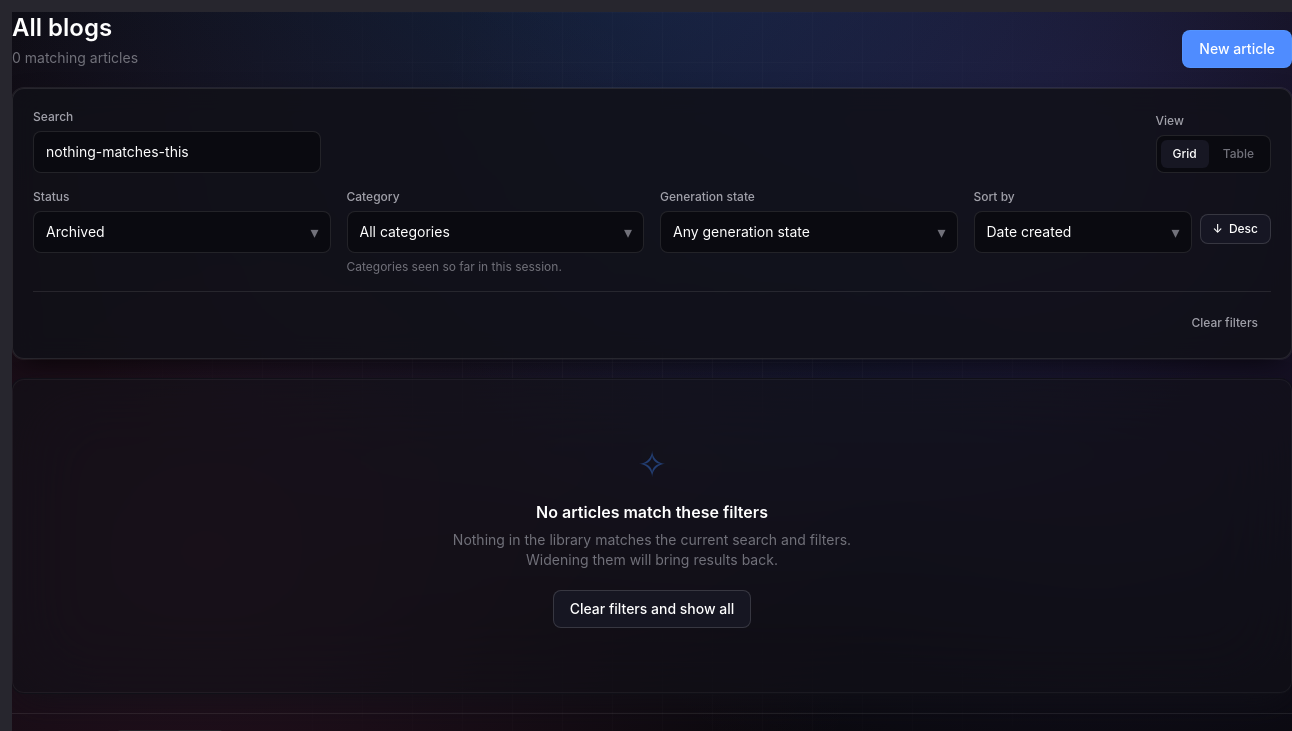
Scenario: empty states › offers a way out of the filters when they exclude everything
The width and height of the screenshot is (1292, 731).
Expected: the heading "No articles match these filters" is shown, [536,500,768,524]
Expected: the text "No articles yet" is not shown
Click the button "Clear filters and show all": (652, 609) [553,590,751,628]
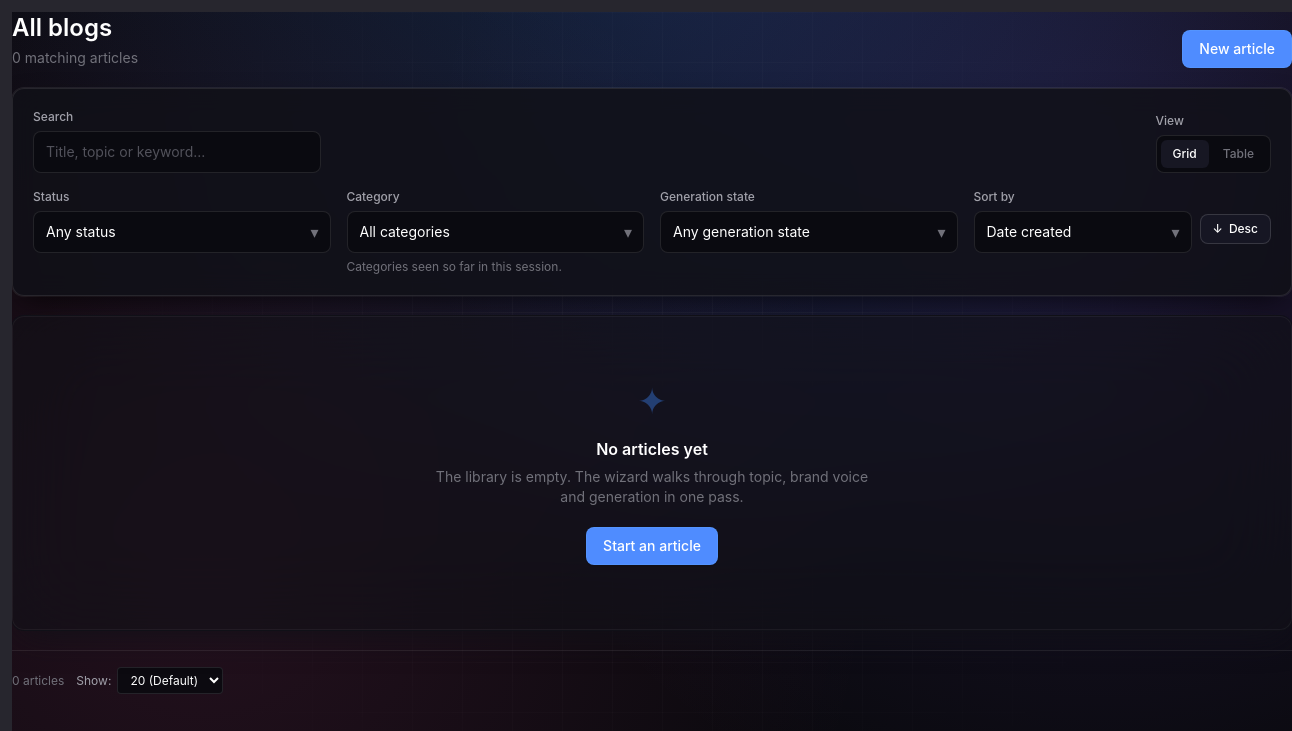
Expected: the search field labelled "Search" is empty, [33,131,321,173]
